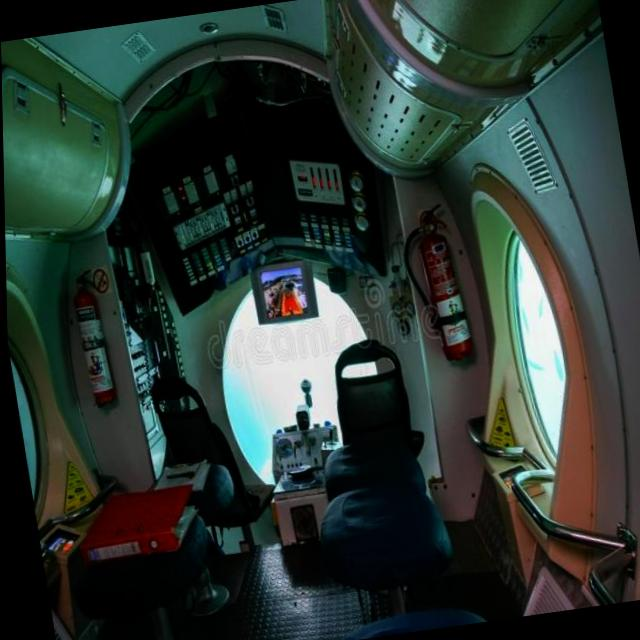FireExtinguisher: (389, 192, 479, 377), (61, 259, 122, 417)
